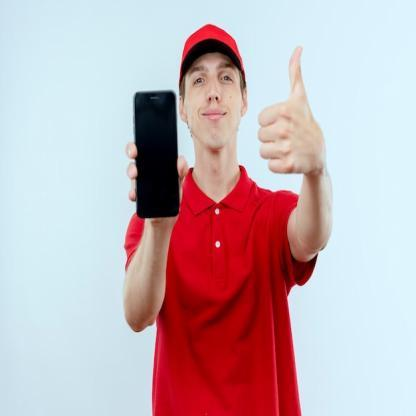thumb_up: (253, 42, 327, 177)
